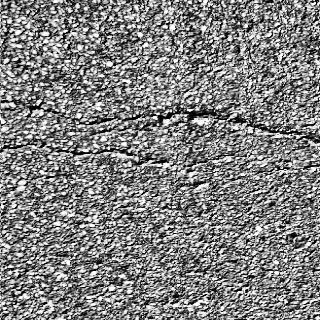crack: (1, 76, 320, 182)
